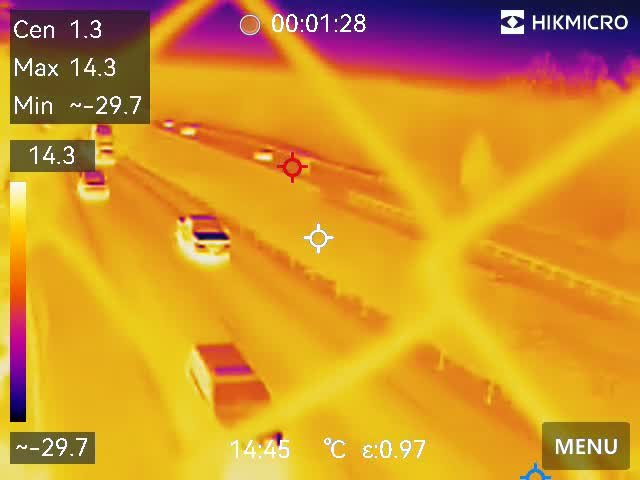heavyTruck: (88, 120, 124, 164)
largeCar: (180, 340, 282, 449)
lightTruck: (169, 208, 239, 264)
vehicle: (72, 165, 114, 201), (247, 145, 281, 165), (180, 123, 200, 140), (159, 116, 175, 131)
